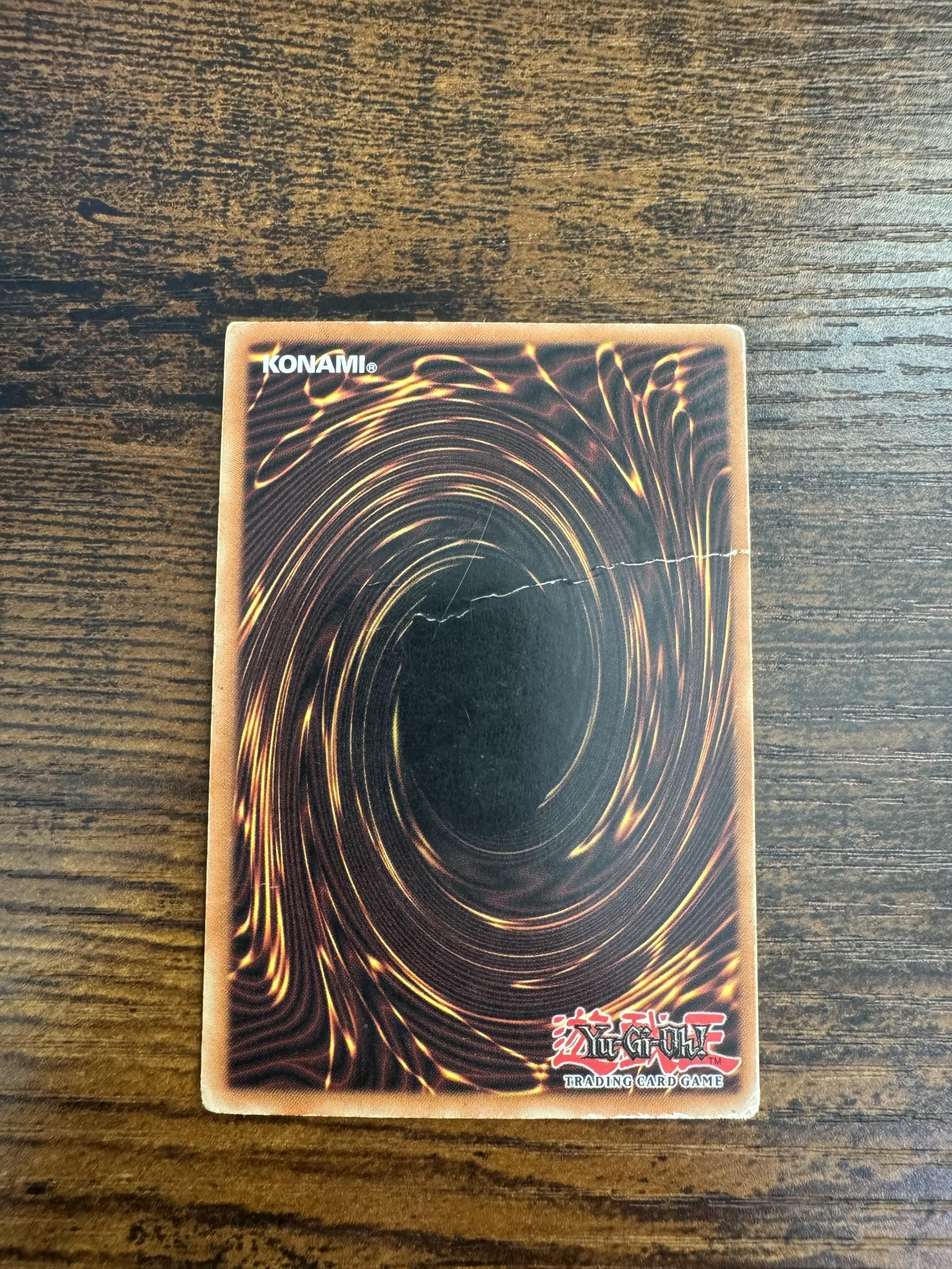card-2UtV: (200, 321, 760, 1119)
